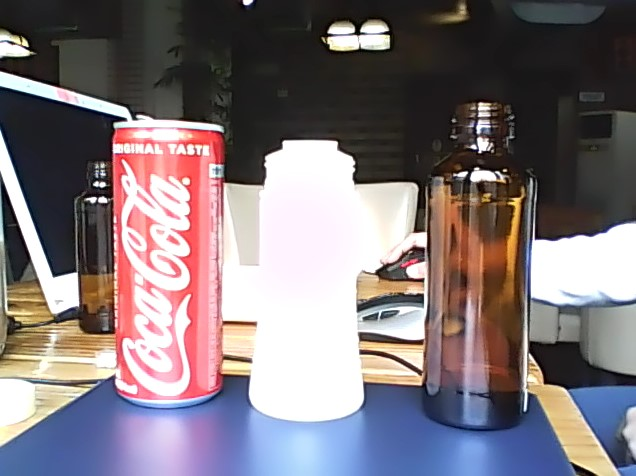Can: (106, 108, 225, 407)
Glass: (419, 99, 538, 431)
Plastic: (246, 135, 370, 424)
